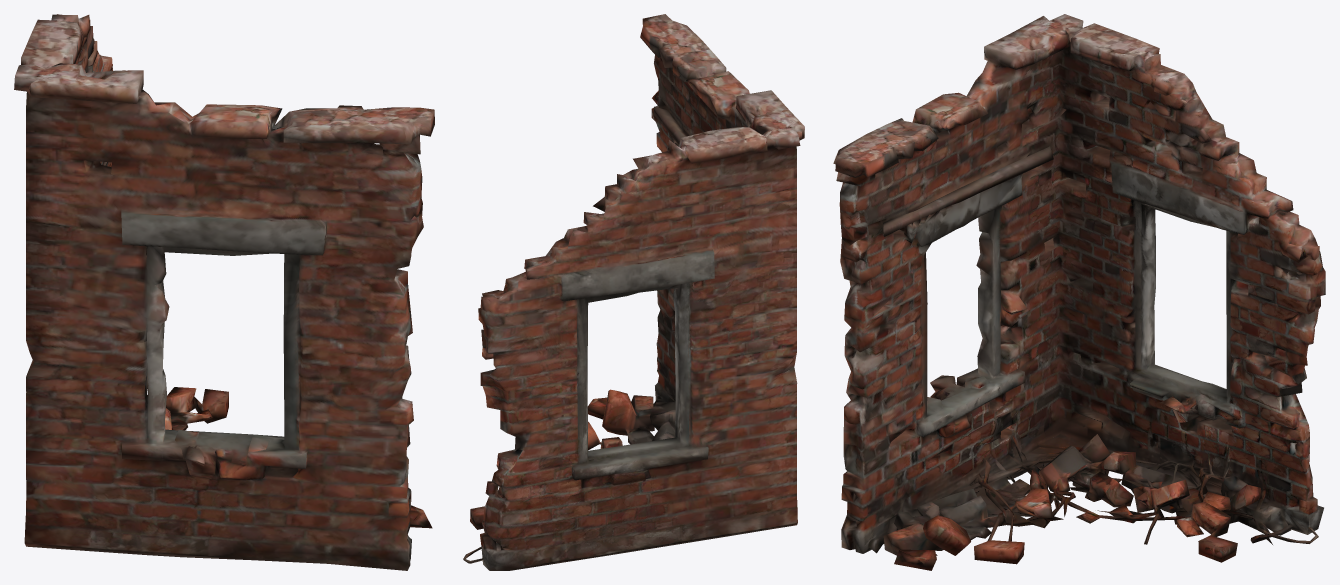
The model's file is ruin_wall.glb.
The picture shows the model from 3 angles, left to right: view 1: azimuth 30°, elevation 25°; view 2: azimuth 150°, elevation 25°; view 3: azimuth 270°, elevation 25°; orthographic projection. The views are drawn at different scales.
Visible parts, largest first — view 1: tripo_node_dba3e080-eefa-4094-88c6-79ef908b89db; view 2: tripo_node_dba3e080-eefa-4094-88c6-79ef908b89db; view 3: tripo_node_dba3e080-eefa-4094-88c6-79ef908b89db.
Part boxes in pixels (x1,y1,x2,y2): tripo_node_dba3e080-eefa-4094-88c6-79ef908b89db: [14, 14, 434, 570]; tripo_node_dba3e080-eefa-4094-88c6-79ef908b89db: [463, 14, 804, 570]; tripo_node_dba3e080-eefa-4094-88c6-79ef908b89db: [833, 14, 1325, 570].
Bounding box in the file's own units: 0.6337 × 0.8703 × 0.9222.
1 material, 1 textured.
